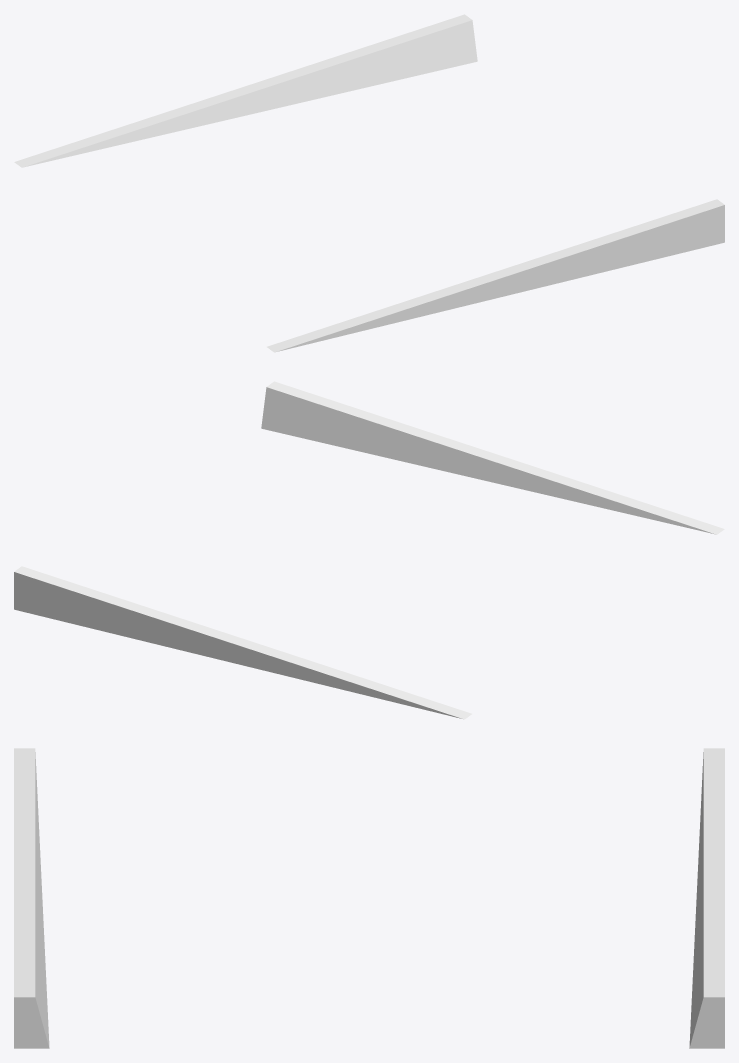
The model's file is road-straight-barrier-end.glb.
The picture shows the model from 3 angles, top to bottom: view 1: azimuth 30°, elevation 25°; view 2: azimuth 150°, elevation 25°; view 3: azimuth 270°, elevation 25°; orthographic projection. The views are drawn at different scales.
Visible parts, largest first — view 1: road-straight-barrier-end; view 2: road-straight-barrier-end; view 3: road-straight-barrier-end.
Boxes of the visible parts, x1,y1,x2,y2 form: road-straight-barrier-end: [14, 14, 724, 352]; road-straight-barrier-end: [14, 381, 724, 719]; road-straight-barrier-end: [14, 748, 724, 1048].
Size of the model in its own units: 1 by 0.08 by 1.
Materials: 1 (1 with a texture image).
